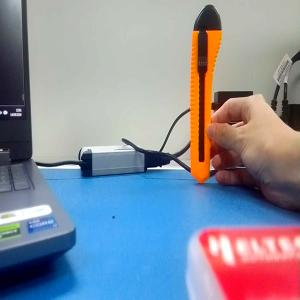estilete: (190, 4, 222, 185)
